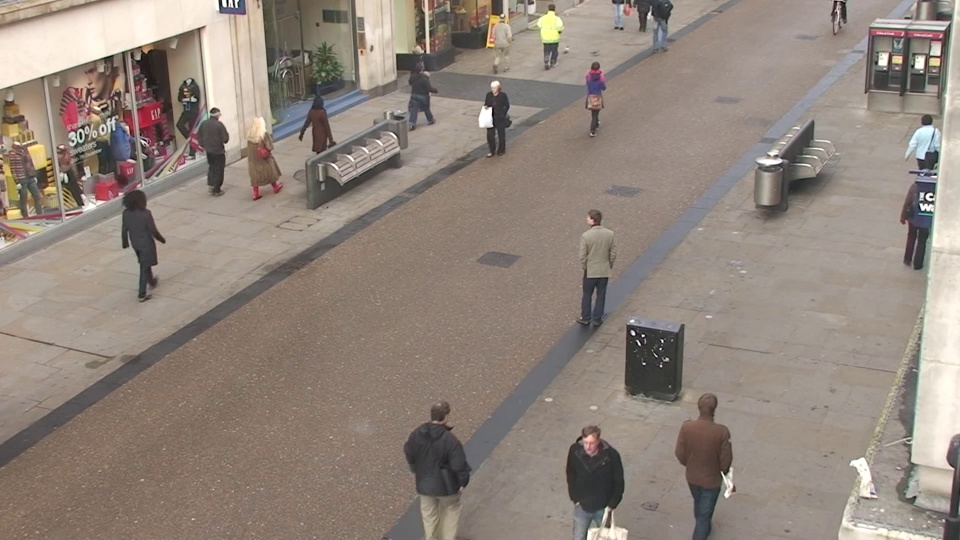pedestrian: (676, 383, 733, 540), (415, 390, 471, 540), (561, 418, 616, 540), (115, 185, 163, 296), (575, 203, 613, 323), (900, 110, 946, 208), (200, 102, 236, 192), (244, 111, 279, 203), (303, 92, 336, 180), (482, 77, 512, 163), (405, 60, 434, 140), (582, 58, 608, 137), (404, 42, 431, 117), (491, 10, 514, 76), (542, 1, 564, 65)
